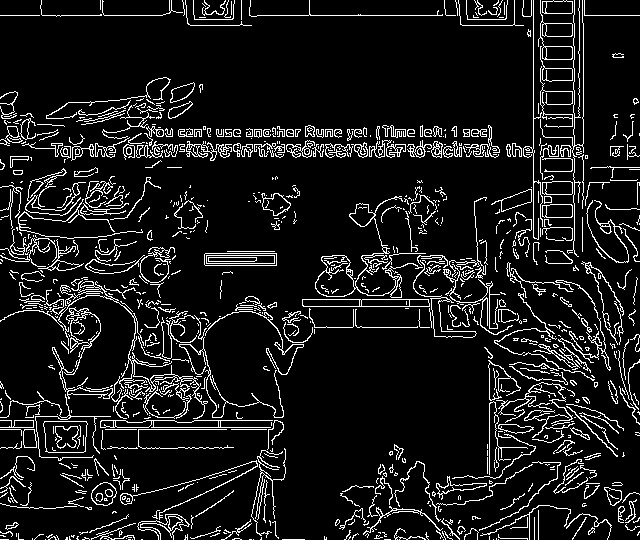down: (344, 201, 380, 230)
right: (259, 190, 297, 220), (406, 193, 441, 224)
up: (171, 198, 208, 232)
